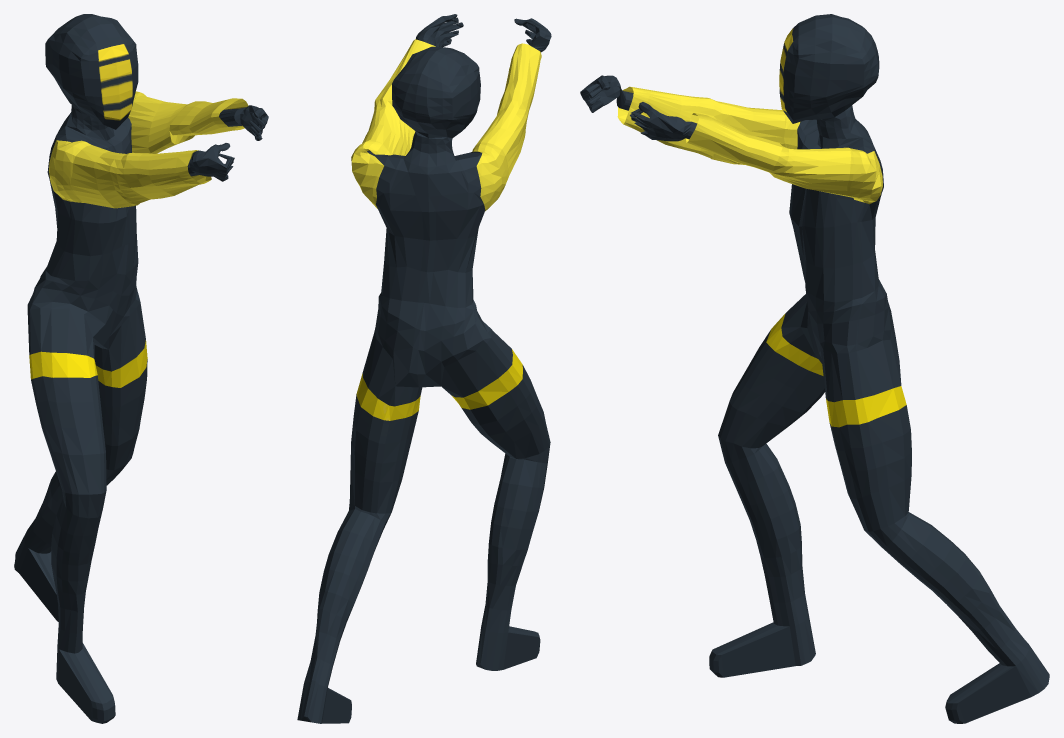
The model's file is Sentry_Attack_000018.obj.
The picture shows the model from 3 angles, left to right: view 1: azimuth 30°, elevation 25°; view 2: azimuth 150°, elevation 25°; view 3: azimuth 270°, elevation 25°; orthographic projection. The views are drawn at different scales.
Visible parts, largest first — view 1: Cube; view 2: Cube; view 3: Cube.
Boxes of the visible parts, x1,y1,x2,y2 form: Cube: [14, 14, 268, 723]; Cube: [297, 14, 551, 723]; Cube: [580, 14, 1049, 723].
Bounding box in the file's own units: 1.04 × 3.85 × 2.39.
